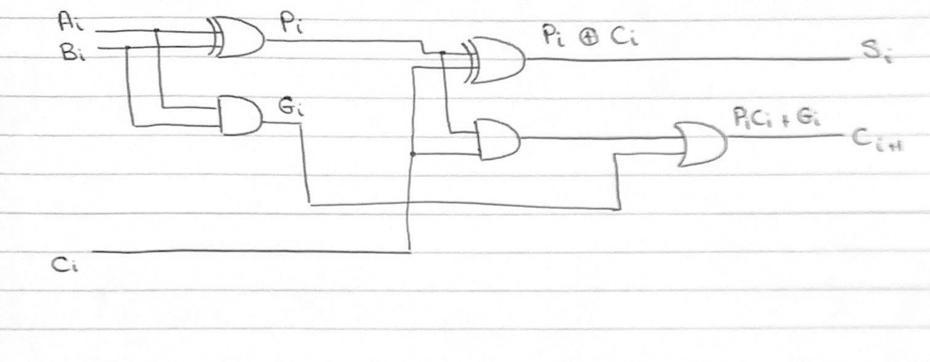AND: (214, 88, 273, 143), (469, 114, 531, 166)
OR: (665, 115, 735, 171)
XOR: (454, 26, 532, 89), (203, 9, 270, 63)
